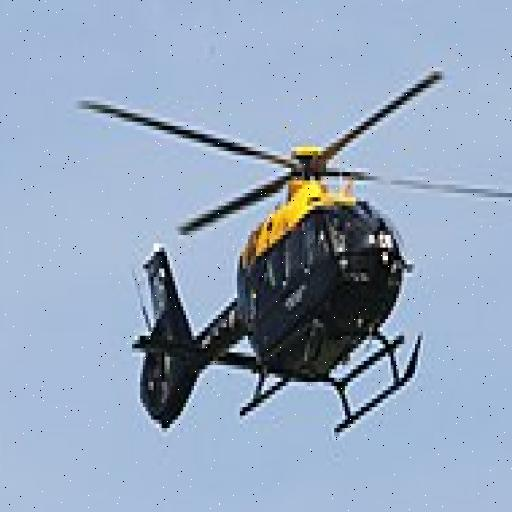helicopter: (82, 72, 512, 442)
